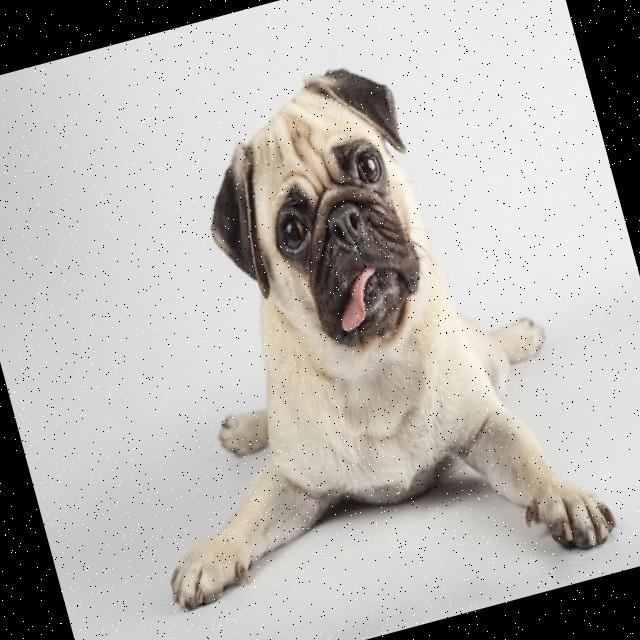Dog: (50, 29, 622, 640)
